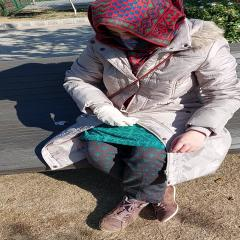gloved: (94, 106, 140, 128)
not-gloved: (171, 132, 205, 154)
